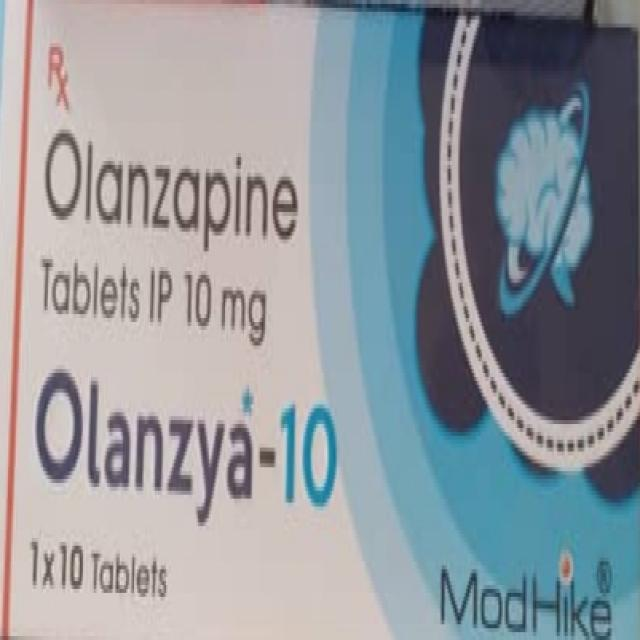drug-name: (28, 362, 345, 530)
